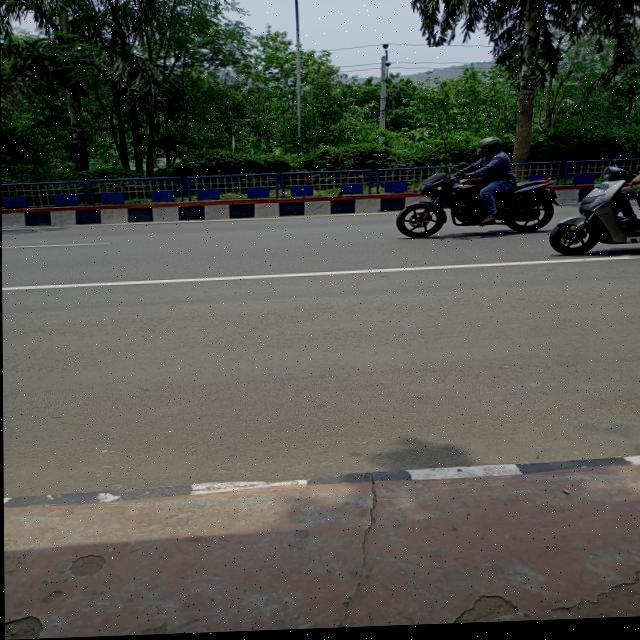bike: (394, 171, 560, 243), (551, 168, 640, 267)
